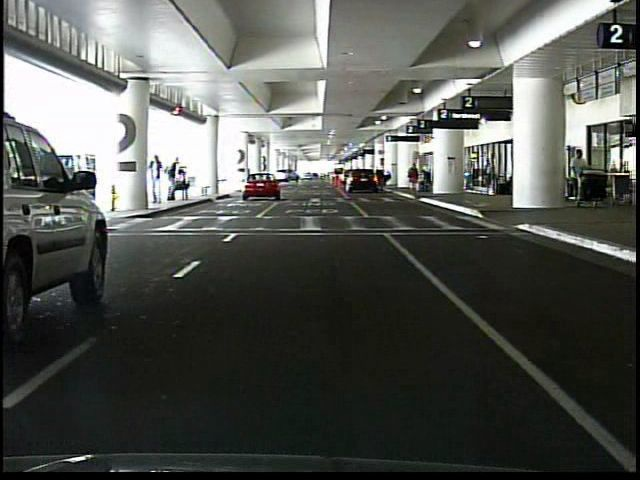person: (567, 147, 590, 206), (151, 152, 167, 205), (168, 159, 180, 201), (172, 170, 187, 203), (406, 162, 420, 194), (483, 160, 494, 197), (462, 162, 475, 192)
